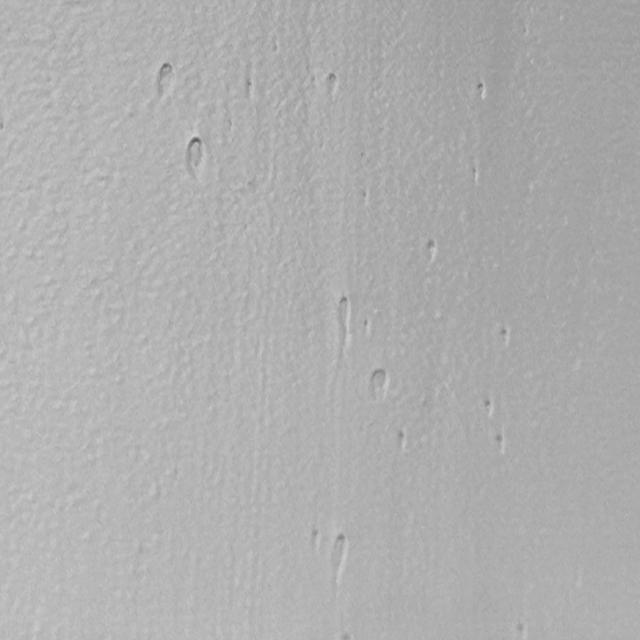pin holes: (182, 136, 208, 179), (326, 533, 349, 577), (330, 297, 352, 340), (153, 61, 177, 97), (367, 368, 390, 399), (322, 72, 342, 98), (421, 238, 439, 266), (494, 324, 514, 348), (490, 430, 508, 456), (241, 76, 257, 101), (474, 80, 490, 103), (308, 526, 322, 550), (360, 314, 374, 338), (467, 163, 481, 186), (396, 429, 409, 452), (513, 621, 528, 640), (482, 398, 495, 418), (362, 184, 372, 205), (340, 629, 354, 639), (0, 119, 7, 135)
